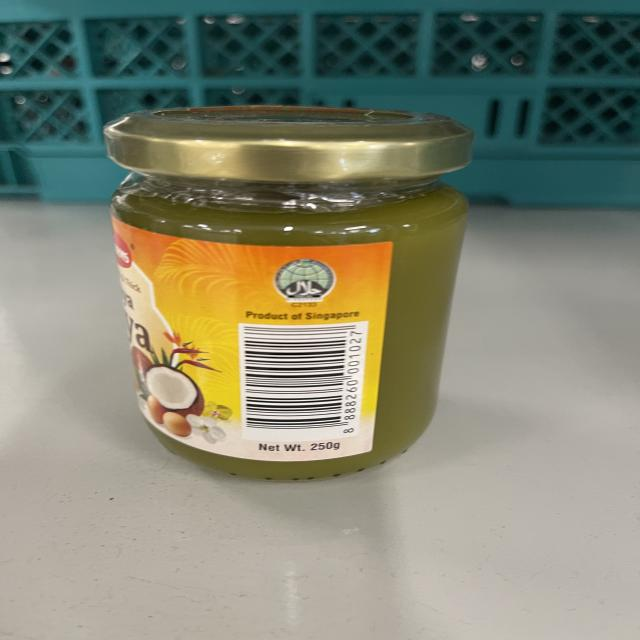object_name: (106, 111, 459, 485)
